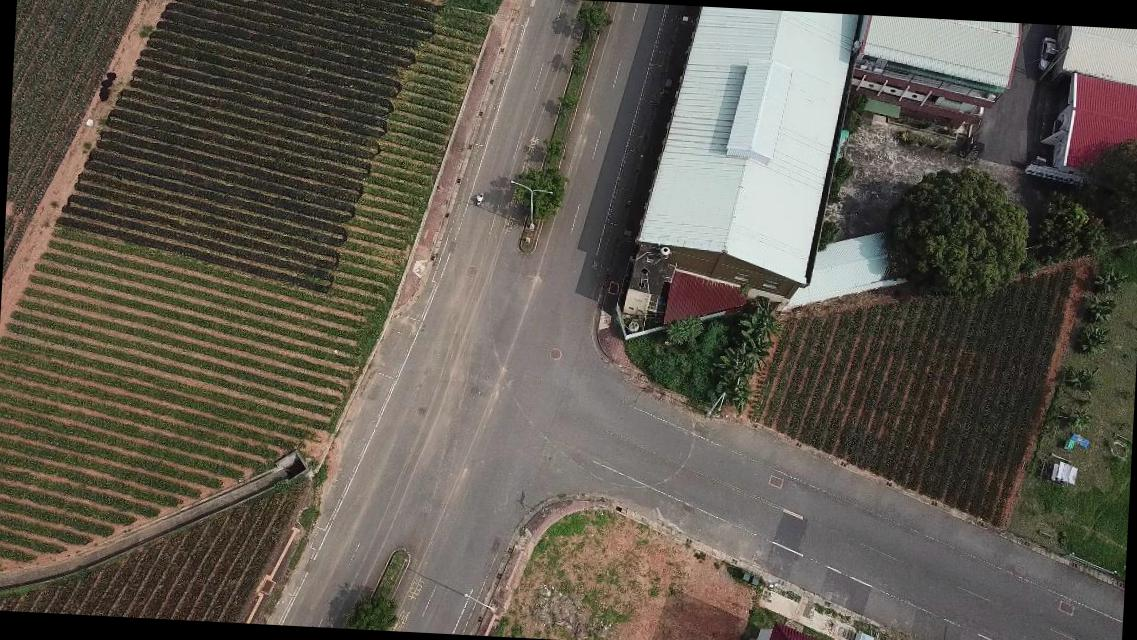vehicle: (1036, 35, 1060, 73)
